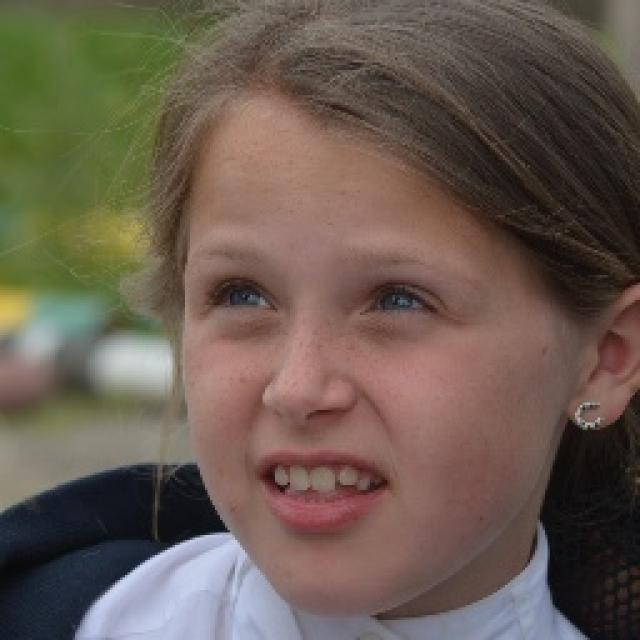earlobe: (561, 378, 622, 428)
eye: (361, 286, 439, 318), (207, 281, 279, 312)
nose: (265, 401, 349, 447)
wholeear: (560, 280, 640, 428)
